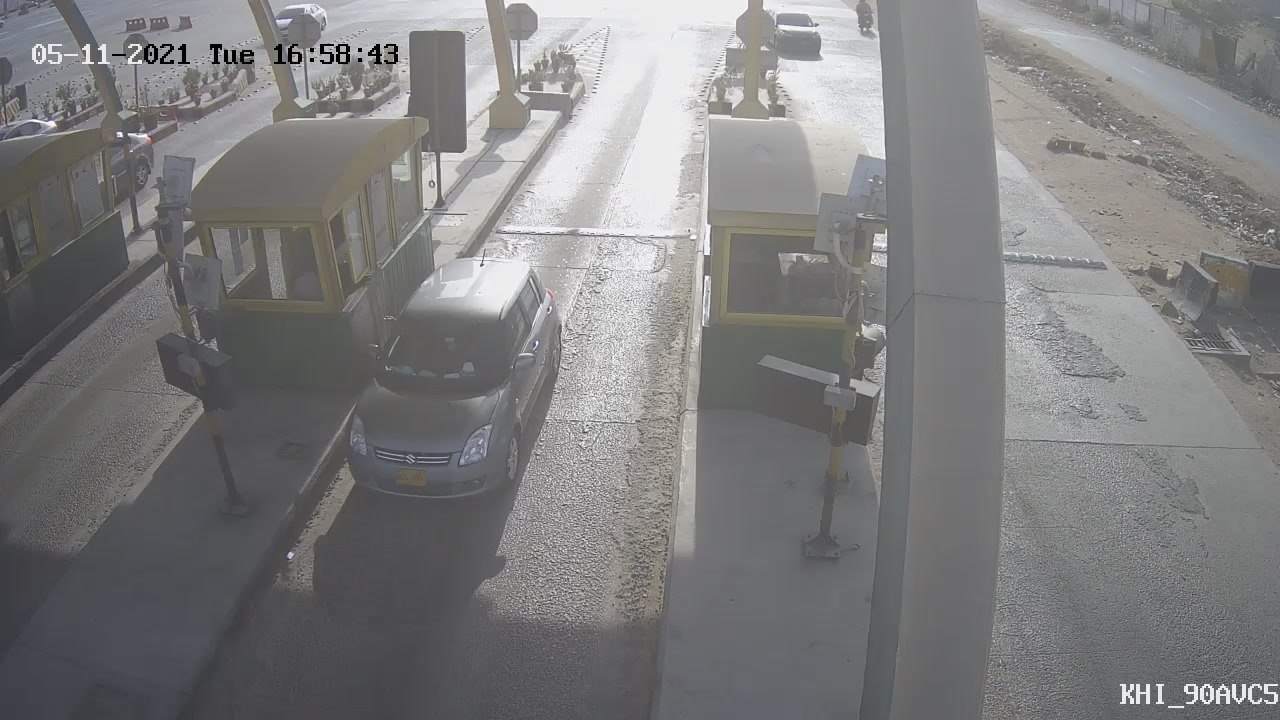F1: (313, 238, 582, 521)
